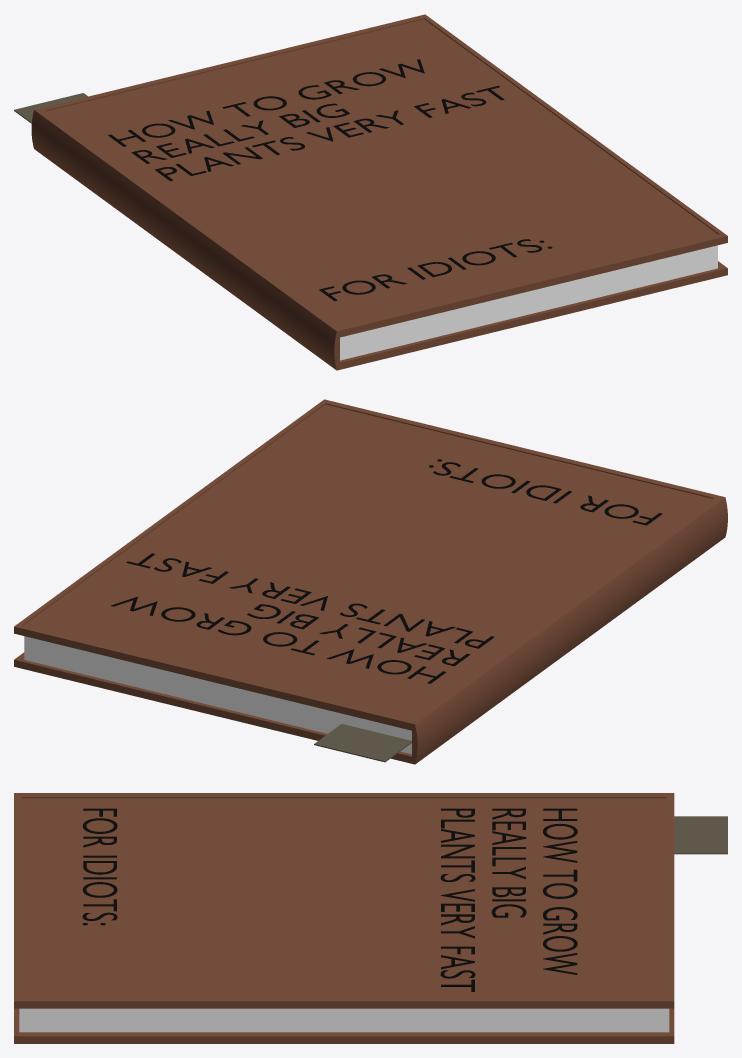
File: Journal.fbx
The picture shows the model from 3 angles, top to bottom: view 1: azimuth 30°, elevation 25°; view 2: azimuth 150°, elevation 25°; view 3: azimuth 270°, elevation 25°; orthographic projection. The views are drawn at different scales.
Parts seen in each view (by area): view 1: Cube.002, Cube.003, Cube.001, Text, Cube, Text.001; view 2: Cube.002, Cube.003, Cube.001, Text, Cube, Cube.004, Text.001; view 3: Cube.002, Cube.001, Cube, Text, Cube.004, Text.001, Cube.003.
Part boxes in pixels (x1,y1,x2,y2): Cube.002: [37, 14, 727, 337]; Cube.003: [31, 109, 339, 370]; Cube.001: [340, 245, 717, 360]; Text: [108, 59, 504, 181]; Cube: [340, 261, 727, 369]; Text.001: [319, 239, 552, 301]; Cube.002: [14, 399, 721, 730]; Cube.003: [412, 496, 727, 764]; Cube.001: [24, 636, 411, 754]; Text: [111, 553, 494, 683]; Cube: [14, 652, 411, 763]; Cube.004: [314, 724, 411, 762]; Text.001: [429, 459, 662, 525]; Cube.002: [14, 794, 674, 1008]; Cube.001: [19, 1008, 669, 1032]; Cube: [14, 1008, 674, 1043]; Text: [440, 808, 577, 991]; Cube.004: [674, 816, 727, 854]; Text.001: [82, 808, 117, 925]; Cube.003: [14, 793, 674, 794].
Size of the model in its own units: 150 by 14.29 by 216.
